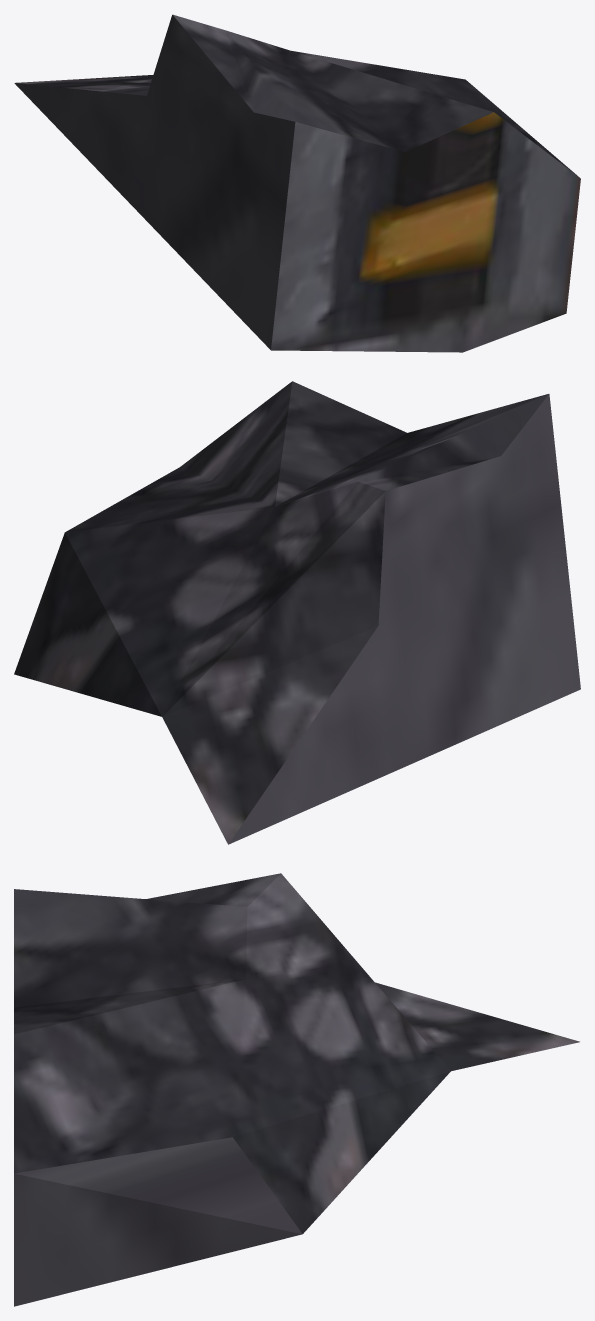
The model's file is BOSS_Stone_08.FBX.
3 views of the same model, one above another, from view 1: azimuth 30°, elevation 25°; view 2: azimuth 150°, elevation 25°; view 3: azimuth 270°, elevation 25° (orthographic). The views are drawn at different scales.
Visible parts, largest first — view 1: BOSS_Stone_08; view 2: BOSS_Stone_08; view 3: BOSS_Stone_08.
Boxes of the visible parts, left/top/right/bottom form: BOSS_Stone_08: left=14, top=14, right=580, bottom=352; BOSS_Stone_08: left=14, top=381, right=580, bottom=844; BOSS_Stone_08: left=14, top=873, right=579, bottom=1306.
Size of the model in its own units: 0.547 by 0.4842 by 0.8095.
